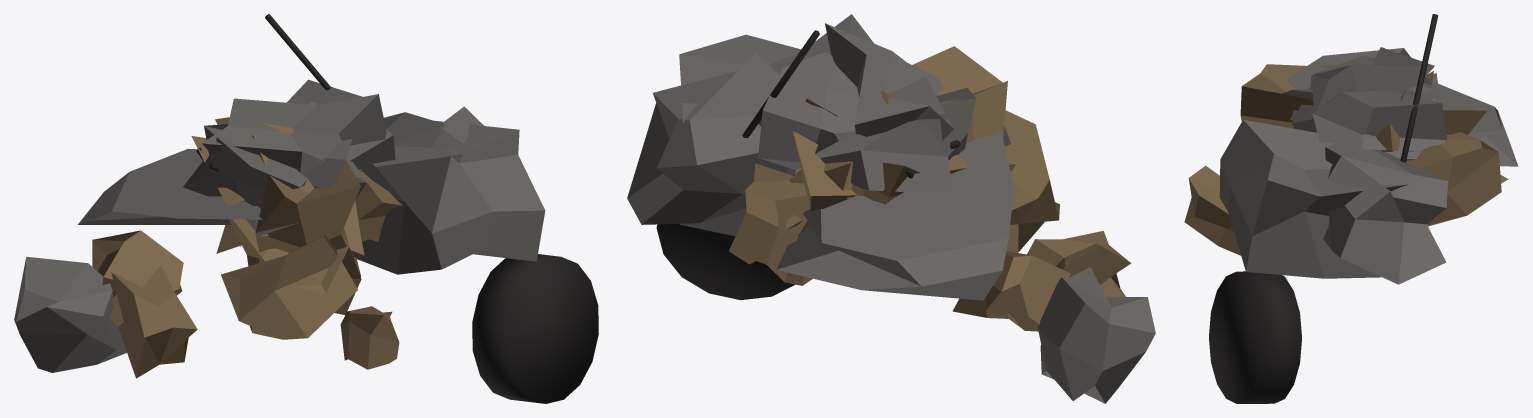
Rendered from cover_rubble_0.glb.
The picture shows the model from 3 angles, left to right: view 1: azimuth 30°, elevation 25°; view 2: azimuth 150°, elevation 25°; view 3: azimuth 270°, elevation 25°; orthographic projection. The views are drawn at different scales.
Parts seen in each view (by area): view 1: lump_4, tyre, lump_13, lump_3, lump_7, slab, lump_8, lump_2, lump_18, lump_5, lump_16, lump_10 (+6 smaller); view 2: slab, lump_14, lump_13, lump_18, lump_16, lump_3, tyre, lump_15, lump_4, lump_7, lump_5, lump_8 (+5 smaller); view 3: lump_4, lump_14, tyre, lump_16, lump_15, lump_3, lump_8, lump_10, slab, lump_18, lump_0, rebar_2.
Part boxes in pixels (<box>): lump_4: <box>356,120,545,274</box>; tyre: <box>472,254,598,403</box>; lump_13: <box>14,256,126,372</box>; lump_3: <box>202,94,386,198</box>; lump_7: <box>221,234,357,339</box>; slab: <box>78,148,363,236</box>; lump_8: <box>252,123,360,276</box>; lump_2: <box>110,265,197,378</box>; lump_18: <box>183,124,363,205</box>; lump_5: <box>92,230,183,298</box>; lump_16: <box>287,79,395,189</box>; lump_10: <box>340,306,399,369</box>; slab: <box>776,126,1014,300</box>; lump_14: <box>627,53,788,224</box>; lump_13: <box>1037,267,1155,403</box>; lump_18: <box>815,88,976,194</box>; lump_16: <box>758,52,943,169</box>; lump_3: <box>825,23,953,140</box>; tyre: <box>656,224,794,300</box>; lump_15: <box>729,163,812,285</box>; lump_4: <box>679,14,873,236</box>; lump_7: <box>1004,110,1059,252</box>; lump_5: <box>952,251,1070,331</box>; lump_8: <box>881,46,1007,144</box>; lump_4: <box>1219,119,1408,278</box>; lump_14: <box>1323,140,1447,284</box>; tyre: <box>1209,271,1301,403</box>; lump_16: <box>1281,87,1446,151</box>; lump_15: <box>1406,132,1508,226</box>; lump_3: <box>1292,47,1434,132</box>; lump_8: <box>1240,64,1371,128</box>; lump_10: <box>1184,165,1240,255</box>; slab: <box>1386,81,1518,166</box>; lump_18: <box>1286,48,1433,100</box>; lump_0: <box>1376,110,1486,151</box>; rebar_2: <box>1400,14,1438,162</box>.
Bounding box in the file's own units: 2.55 × 1.67 × 1.61.
